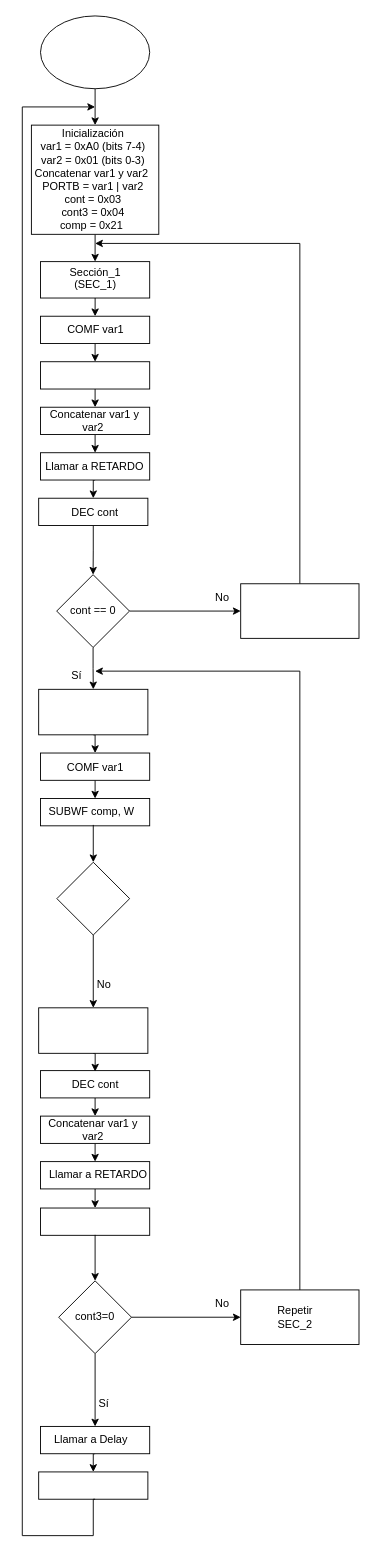
The diagram is 375 pixels wide and 1559 high, and some of its shapes have lost their labels. The centre of each missing label's shape, as x and y in pixels:
"comp == 0" goes at point (93, 898).
"DEC cont3" goes at point (95, 1221).
"Inicio Configuración -OSSCON -TRISB -ANSELH" goes at point (95, 52).
"Reiniciar" goes at point (93, 1485).
"Repetir SEC_1" goes at point (299, 610).
"RLF var2" goes at point (95, 375).
"RRF var2" goes at point (93, 1030).
"Sección_2 (SEC_2)" goes at point (93, 711).
